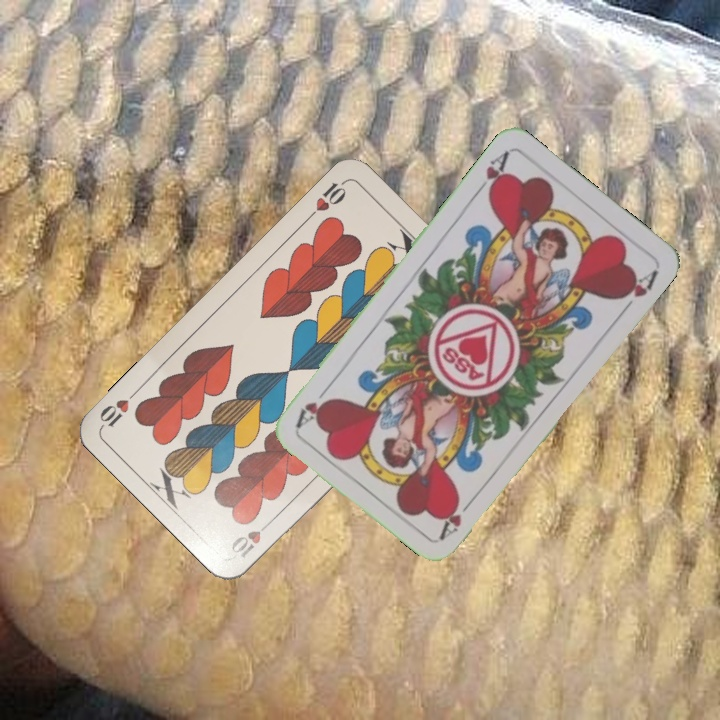H10: (227, 514, 277, 561), (303, 177, 349, 223)
HA: (470, 147, 512, 201), (435, 491, 479, 542)
